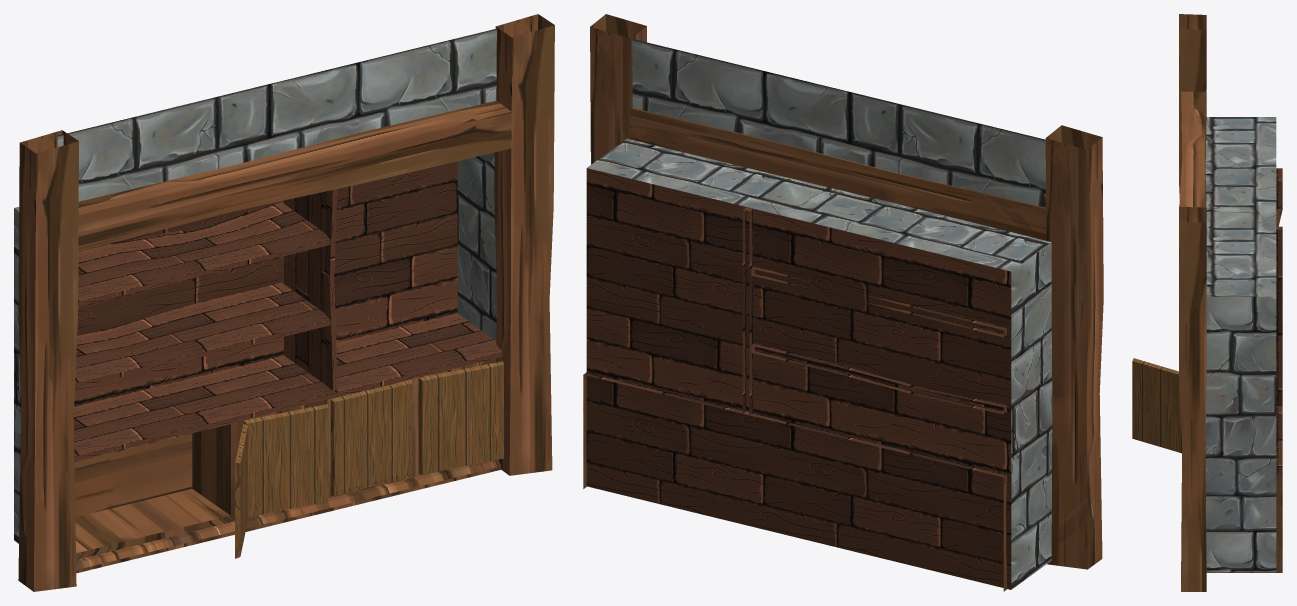
File: Pantry.fbx
The picture shows the model from 3 angles, left to right: view 1: azimuth 30°, elevation 25°; view 2: azimuth 150°, elevation 25°; view 3: azimuth 270°, elevation 25°; orthographic projection. The views are drawn at different scales.
Visible parts, largest first — view 1: 1_Larder; view 2: 1_Larder; view 3: 1_Larder.
Boxes of the visible parts, x1=… form: 1_Larder: x1=14, y1=14, x2=554, y2=591; 1_Larder: x1=583, y1=14, x2=1103, y2=591; 1_Larder: x1=1132, y1=14, x2=1282, y2=591.
Size of the model in its own units: 382 by 313 by 115.
